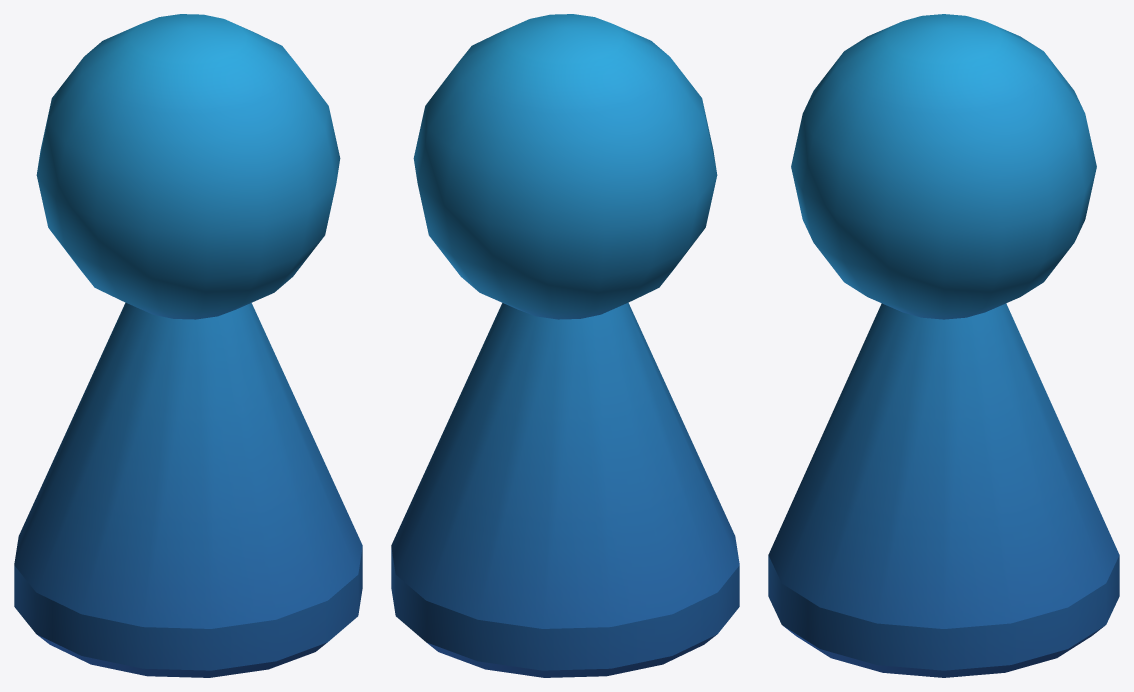
Rendered from pawn_A_blue.obj.
The picture shows the model from 3 angles, left to right: view 1: azimuth 30°, elevation 25°; view 2: azimuth 150°, elevation 25°; view 3: azimuth 270°, elevation 25°; orthographic projection.
Visible parts, largest first — view 1: pawn_A_blue; view 2: pawn_A_blue; view 3: pawn_A_blue.
Part boxes in pixels (x1,y1,x2,y2): pawn_A_blue: (14, 14, 362, 677); pawn_A_blue: (391, 14, 739, 677); pawn_A_blue: (768, 14, 1119, 677).
Bounding box in the file's own units: 0.5 × 0.9146 × 0.5.
Materials: 1 (1 with a texture image).
